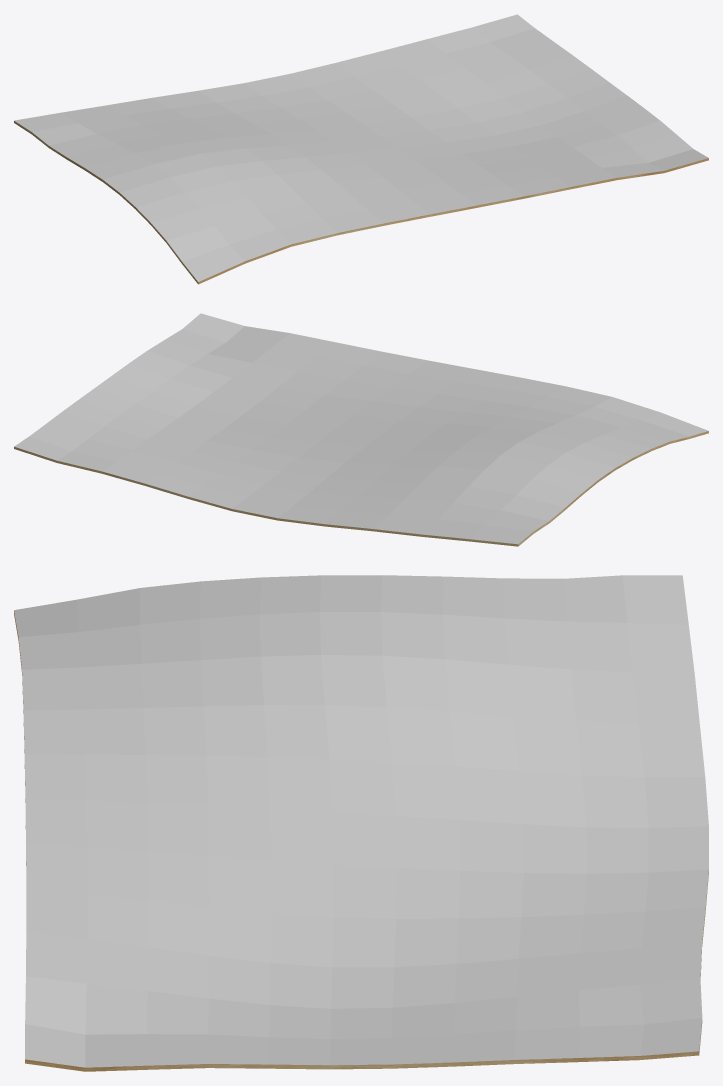
Rendered from Notiz.fbx.
3 renders of one model, top to bottom at view 1: azimuth 30°, elevation 25°; view 2: azimuth 150°, elevation 25°; view 3: azimuth 270°, elevation 25°, orthographic. The views are drawn at different scales.
Visible parts, largest first — view 1: Cube; view 2: Cube; view 3: Cube.
Boxes of the visible parts, left/top/right/bottom form: Cube: left=14, top=14, right=708, bottom=284; Cube: left=14, top=313, right=708, bottom=546; Cube: left=14, top=575, right=708, bottom=1071.
Size of the model in its own units: 317 by 25.96 by 209.
